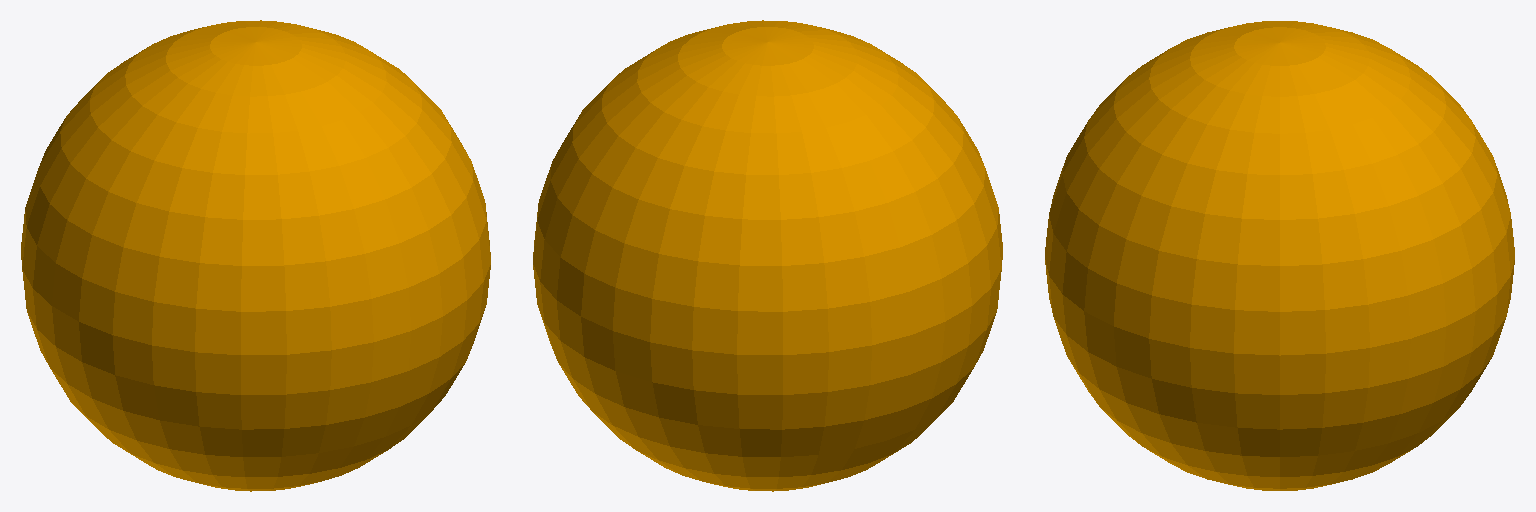
robot.urdf — Orig7:
<?xml version="1.0"?>
<robot name="Orig7">
  <link name="Orig7">
    <inertial>
      <origin xyz="0 0 0" /> 
      <mass value="0.1" />
      <inertia  ixx="1.0" ixy="0.0"  ixz="0.0"  iyy="1.0"  iyz="0.0"  izz="1.0" />
    </inertial>
    <visual>
      <origin xyz="-0.052344 0.0941268 -0.8804416" rpy="0 0 0"/>
      <geometry>
        <sphere radius="0.01"/>
      </geometry>
    </visual>
    <collision>
      <origin xyz="-0.052344 0.0941268 -0.8804416" rpy="0 0 0"/>
      <geometry>
        <sphere radius="0"/>
      </geometry>
    </collision>
  </link>
  <gazebo reference="Orig7">
    <material>Gazebo/Blue</material>
    <turnGravityOff>true</turnGravityOff>
  </gazebo>
</robot>

--- Render facts (derived) ---
The picture shows the robot from 3 angles, left to right: view 1: azimuth 30°, elevation 25°; view 2: azimuth 150°, elevation 25°; view 3: azimuth 270°, elevation 25°; orthographic projection.
Robot: Orig7 — 1 links, 0 joints (none); root link Orig7; default pose: all joints at 0.
Links seen in each view (by area): view 1: Orig7; view 2: Orig7; view 3: Orig7.
Boxes of the visible links, <box> form: Orig7: <box>21,20,490,491</box>; Orig7: <box>533,20,1002,491</box>; Orig7: <box>1045,21,1514,490</box>.
Bounding box of the posed robot: 0.02 × 0.02 × 0.02 m (x, y, z).
Geometry: primitives only (box / cylinder / sphere), no mesh files.